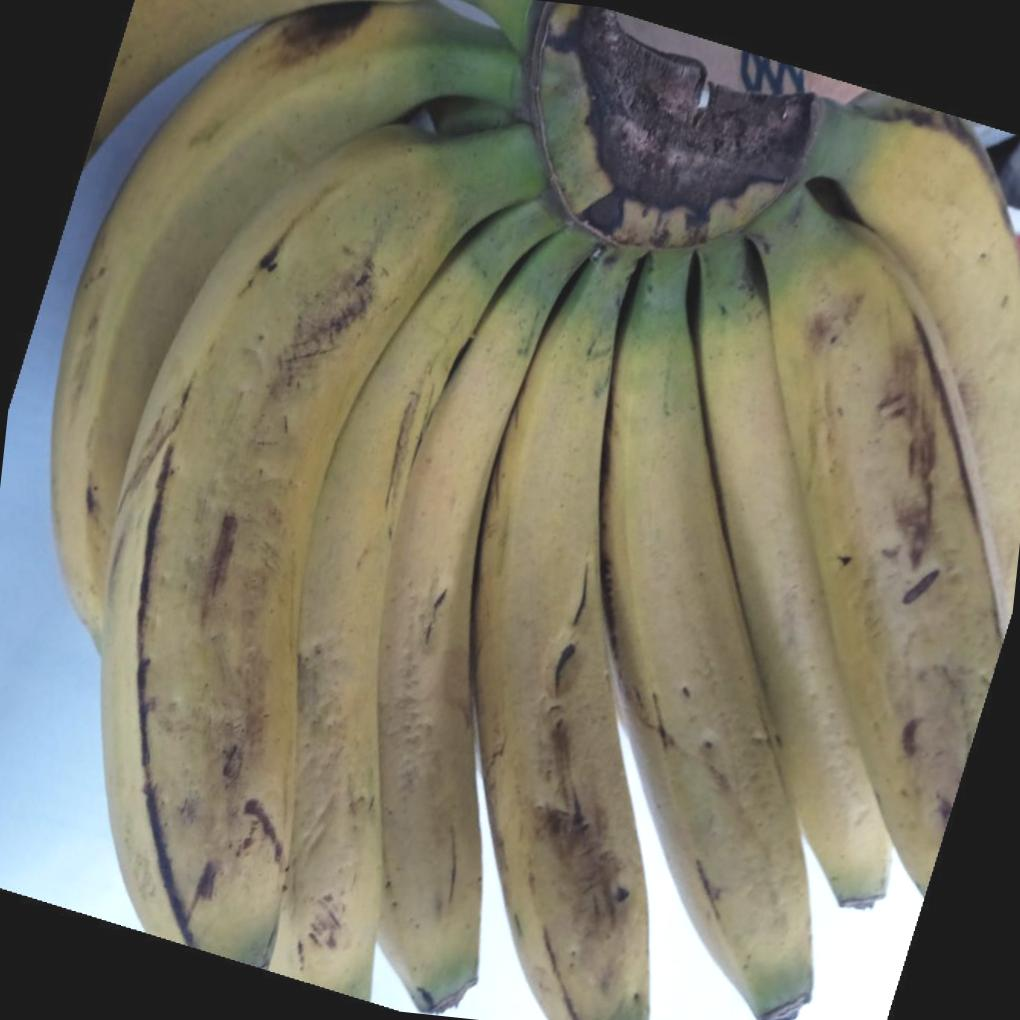Banana Ripe: (26, 0, 1020, 1020)
